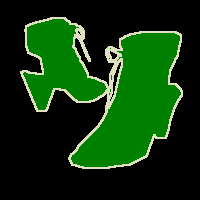shoe: (69, 31, 182, 168), (21, 18, 108, 111)
